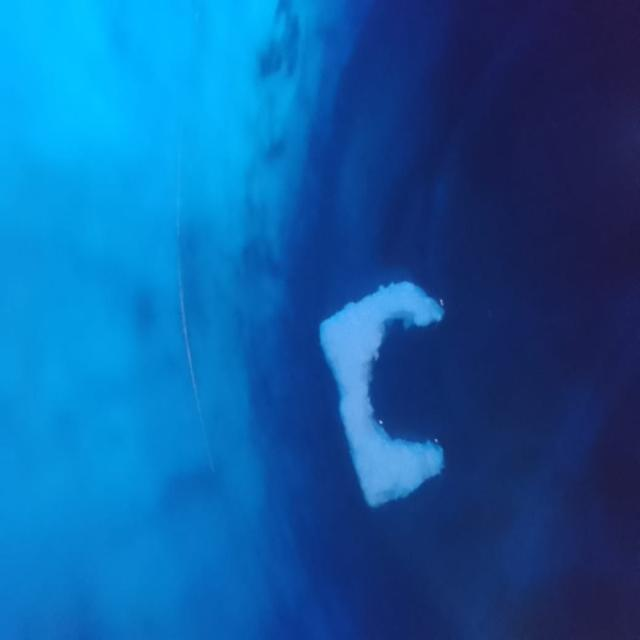thermocoal: (301, 259, 471, 511)
